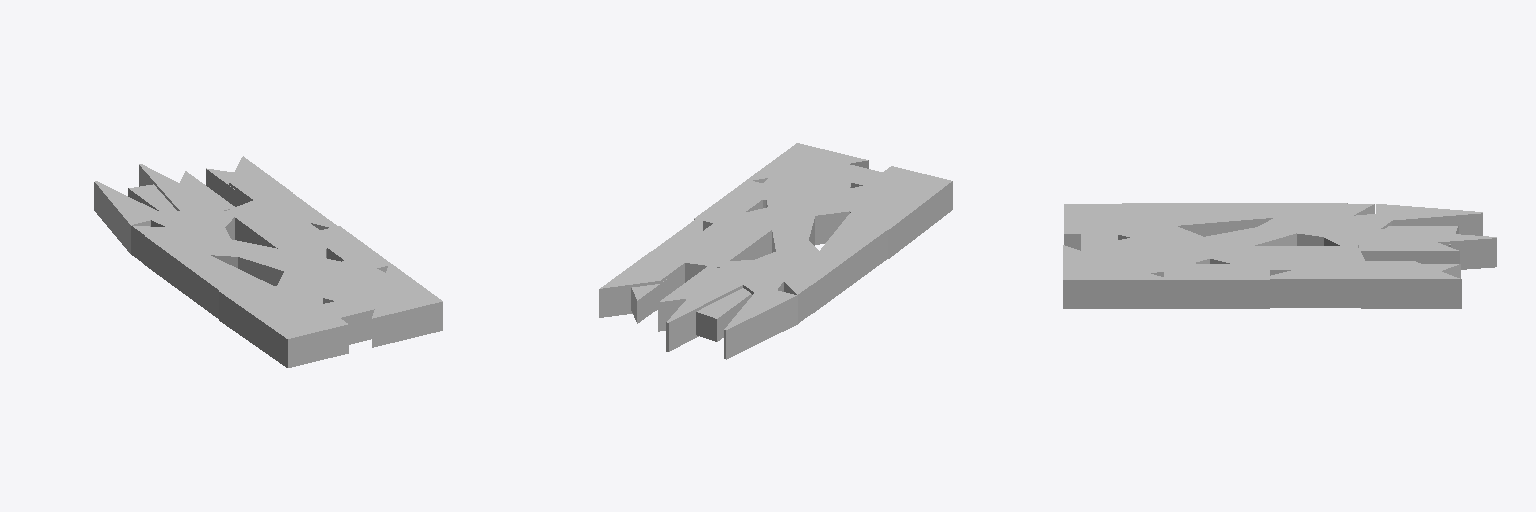
Rendered from platformexplosion.obj.
The picture shows the model from 3 angles: view 1: azimuth 30°, elevation 25°; view 2: azimuth 150°, elevation 25°; view 3: azimuth 270°, elevation 25°; orthographic projection.
Visible parts, largest first — view 1: pCube21; view 2: pCube21; view 3: pCube21.
Boxes of the visible parts, x1=… form: pCube21: x1=94, y1=156, x2=442, y2=367; pCube21: x1=599, y1=143, x2=952, y2=359; pCube21: x1=1063, y1=203, x2=1496, y2=308.
Bounding box in the file's own units: 4.96 × 0.8767 × 11.77.